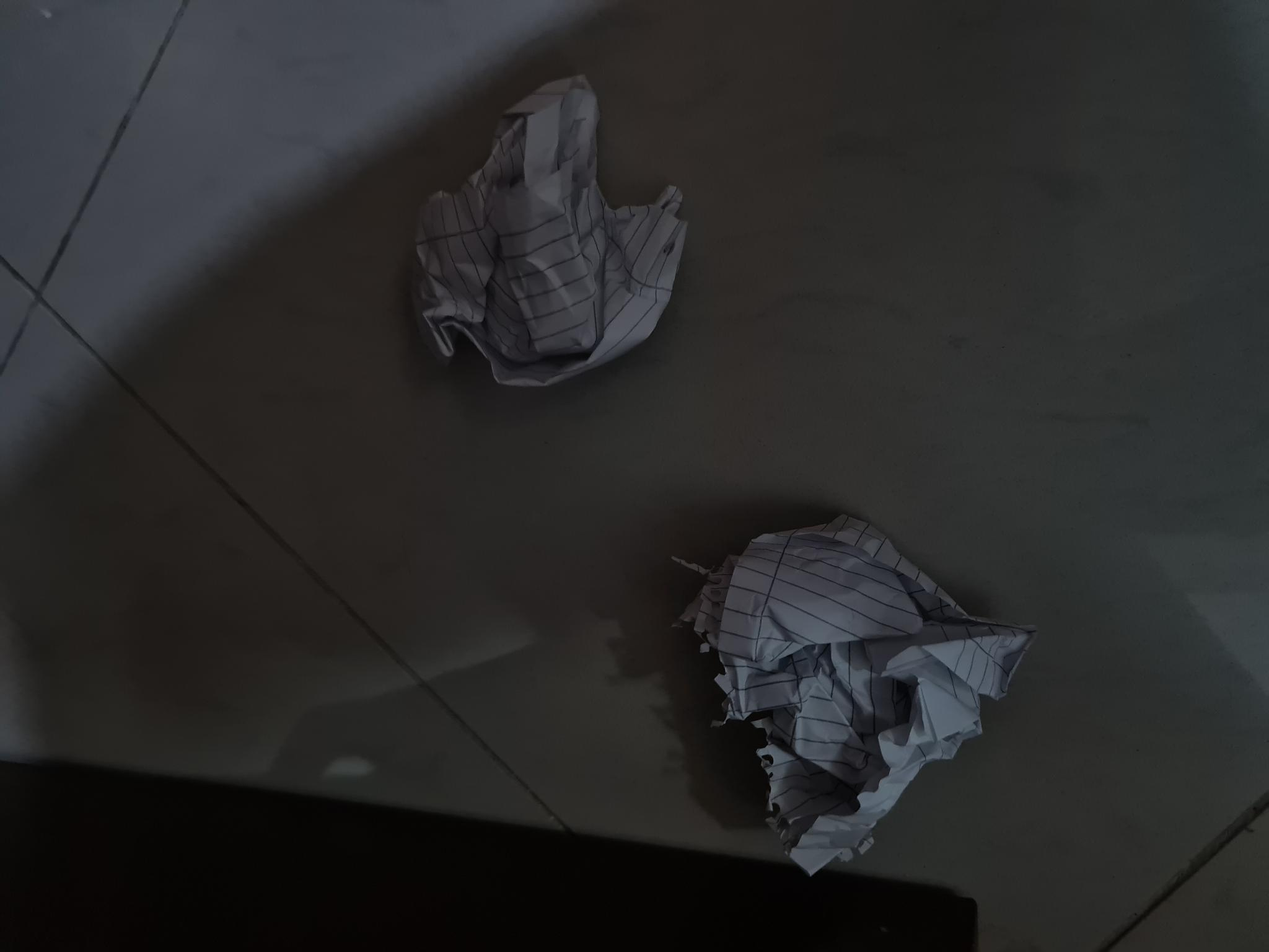Kertas: (561, 407, 875, 694), (143, 691, 415, 952)
